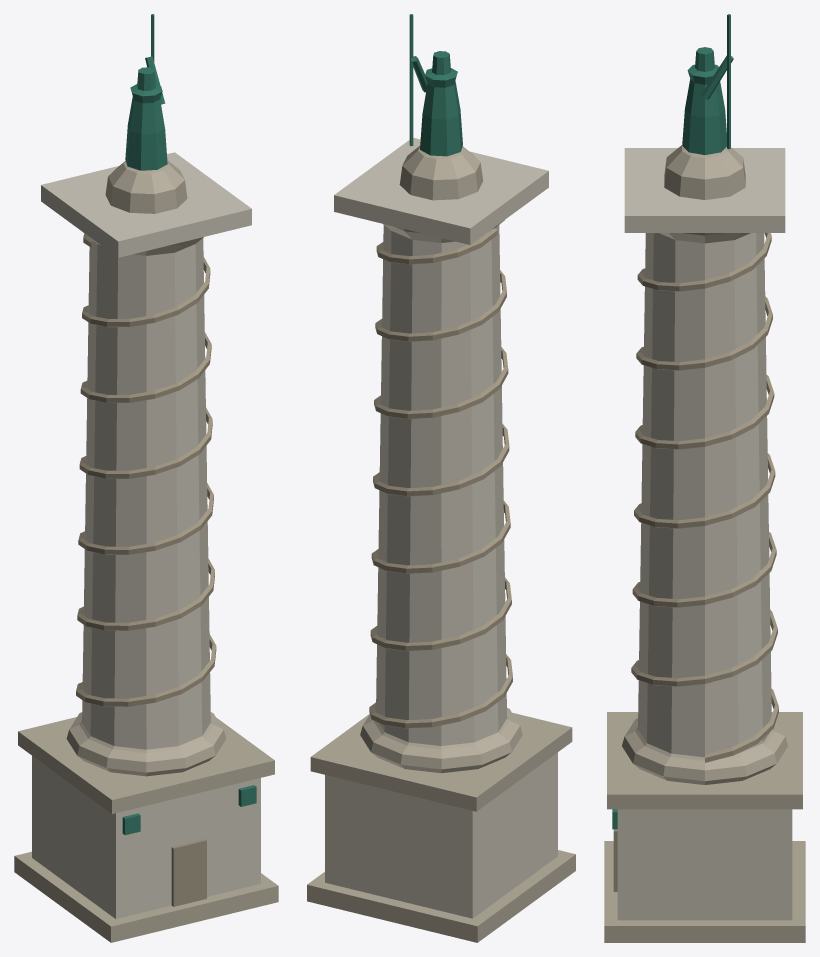
The model's file is trophee.glb.
The picture shows the model from 3 angles, left to right: view 1: azimuth 30°, elevation 25°; view 2: azimuth 150°, elevation 25°; view 3: azimuth 270°, elevation 25°; orthographic projection. The views are drawn at different scales.
Parts seen in each view (by area): view 1: trophee; view 2: trophee; view 3: trophee.
Part boxes in pixels (x1,y1,x2,y2): trophee: [14, 14, 278, 942]; trophee: [307, 14, 575, 942]; trophee: [604, 14, 805, 942].
Bounding box in the file's own units: 1.5 × 7.36 × 1.5.
